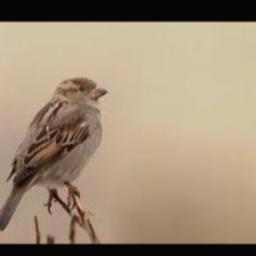Sparrow: (0, 78, 109, 234)
